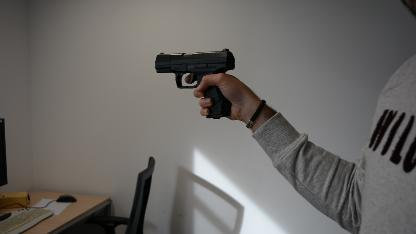pistol: (154, 48, 235, 118)
